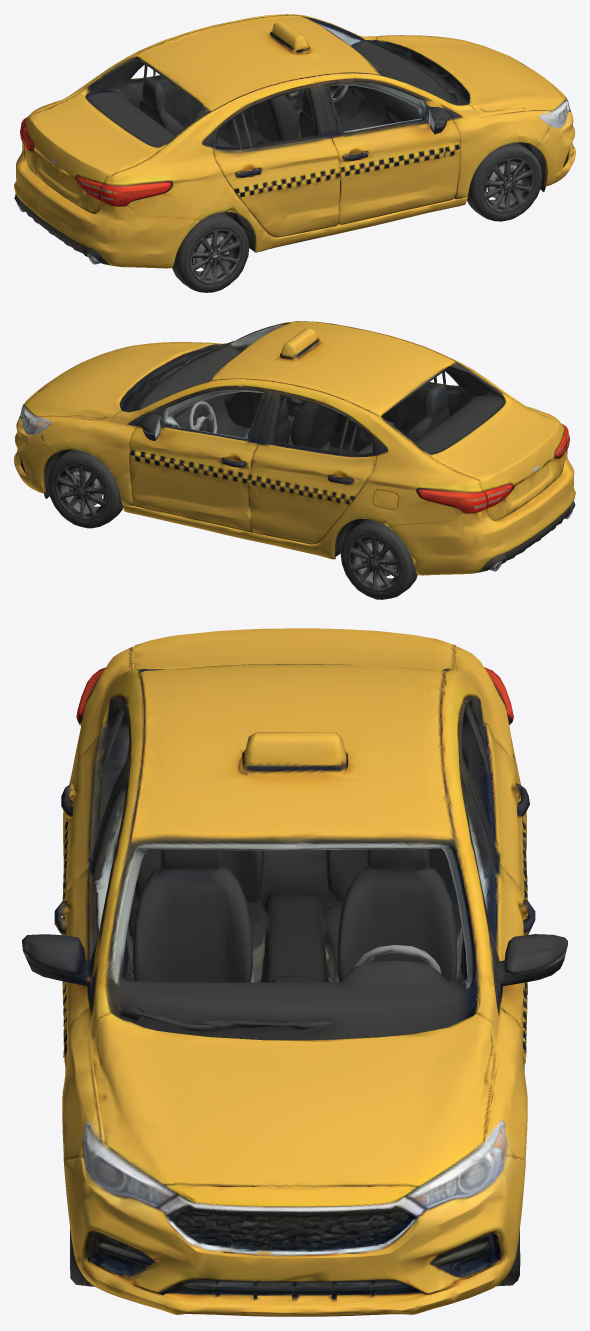
The model's file is car_taxi.glb.
3 renders of one model, top to bottom at view 1: azimuth 30°, elevation 25°; view 2: azimuth 150°, elevation 25°; view 3: azimuth 270°, elevation 25°, orthographic. The views are drawn at different scales.
Parts seen in each view (by area): view 1: tripo_node_31df77e6-cd93-4db2-bcf5-d41443139e03; view 2: tripo_node_31df77e6-cd93-4db2-bcf5-d41443139e03; view 3: tripo_node_31df77e6-cd93-4db2-bcf5-d41443139e03.
Boxes of the visible parts, x1,y1,x2,y2 form: tripo_node_31df77e6-cd93-4db2-bcf5-d41443139e03: [14, 14, 575, 292]; tripo_node_31df77e6-cd93-4db2-bcf5-d41443139e03: [14, 321, 575, 599]; tripo_node_31df77e6-cd93-4db2-bcf5-d41443139e03: [22, 628, 567, 1316].
Bounding box in the file's own units: 0.98 × 0.359 × 0.4604.
Materials: 1 (1 with a texture image).
